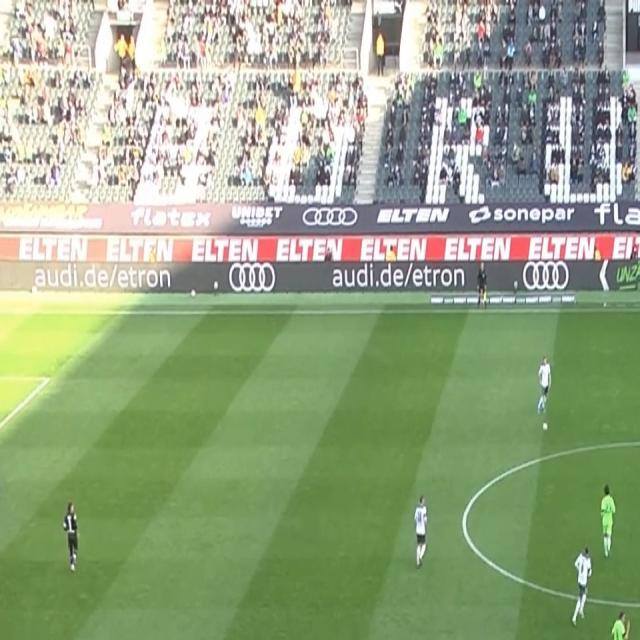ball: (542, 422, 548, 432)
